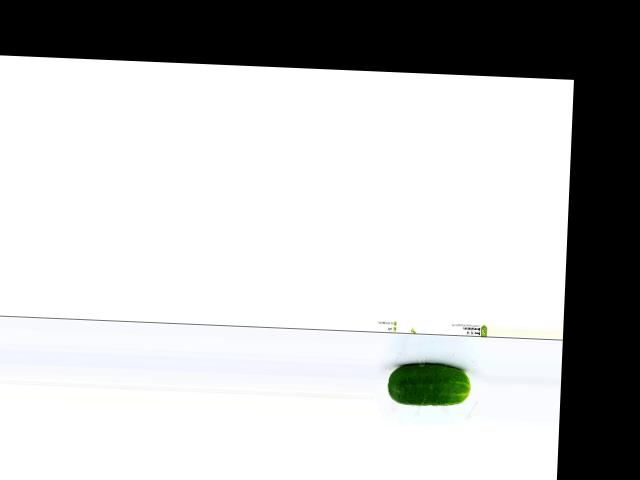cucumber: (386, 361, 470, 406)
